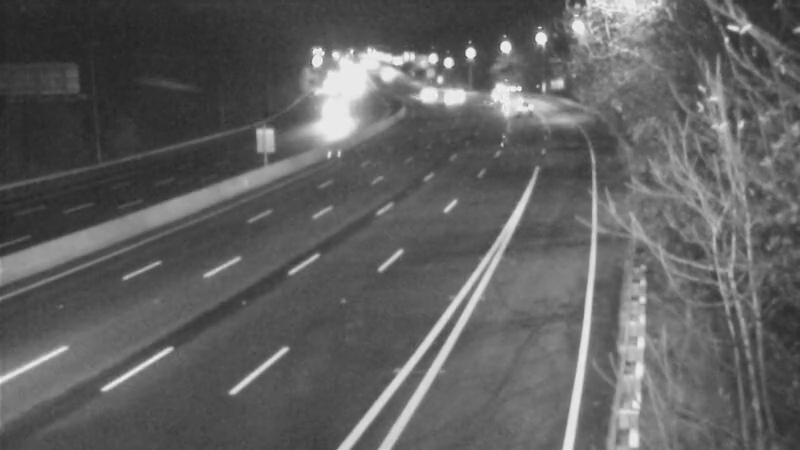vehicle: (476, 68, 526, 118), (403, 68, 453, 118), (430, 72, 480, 122), (495, 79, 545, 129)
